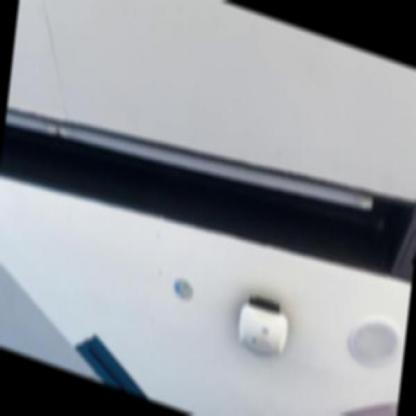light_off: (0, 0, 391, 293)
